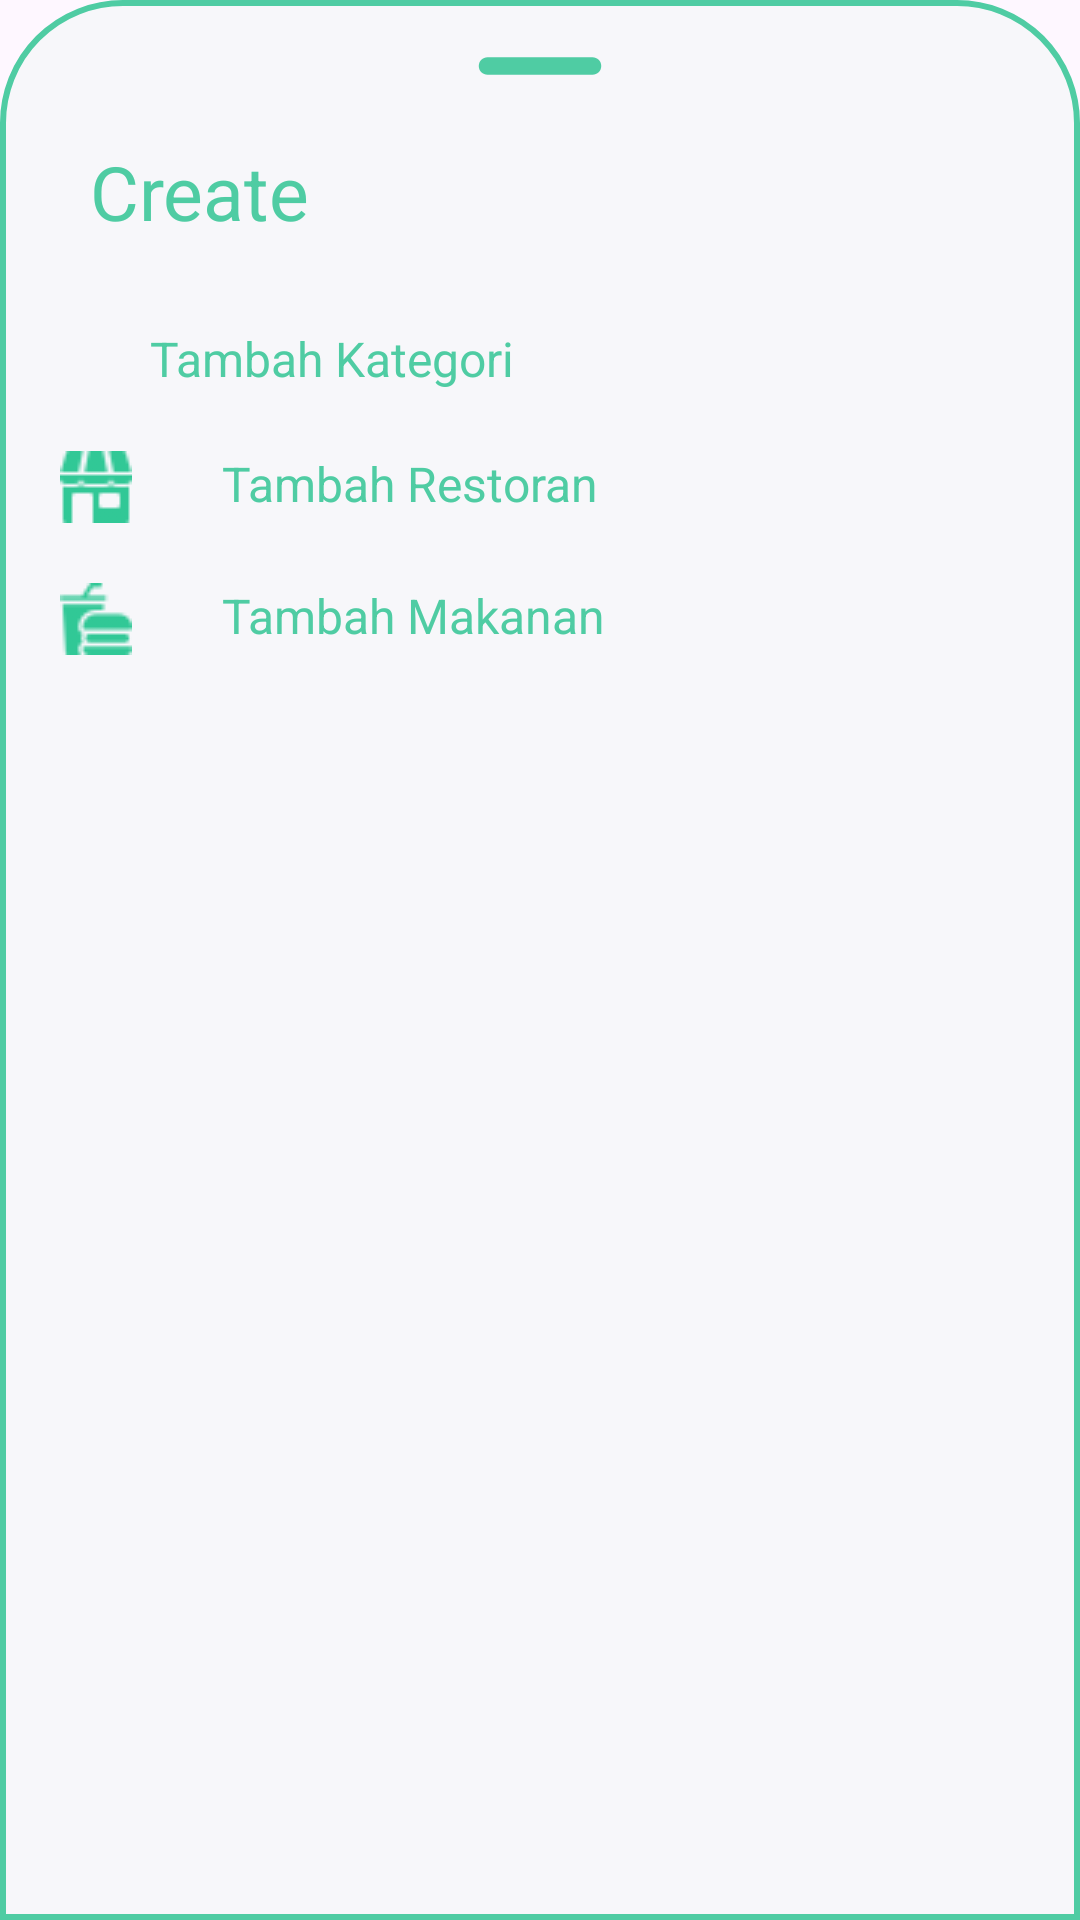

Point at icon controls on the screen. Image size 1080w x 1920h, points as point (x, y).
food: point (96, 619)
store: point (96, 487)
